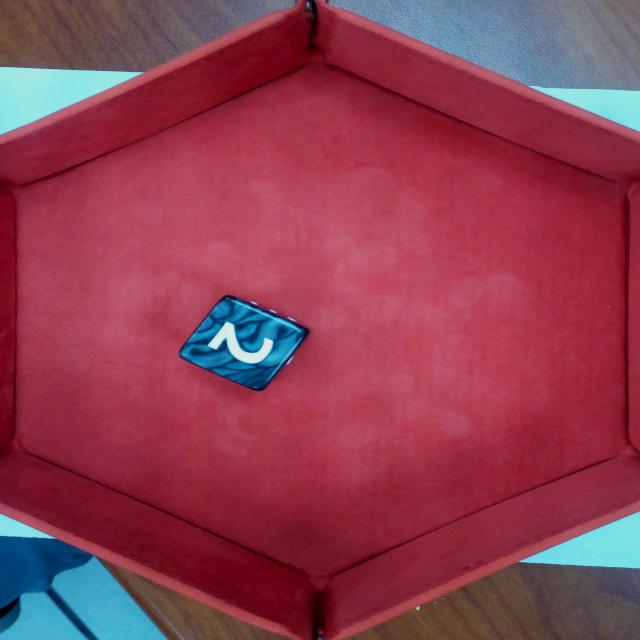dice: (184, 302, 296, 390)
